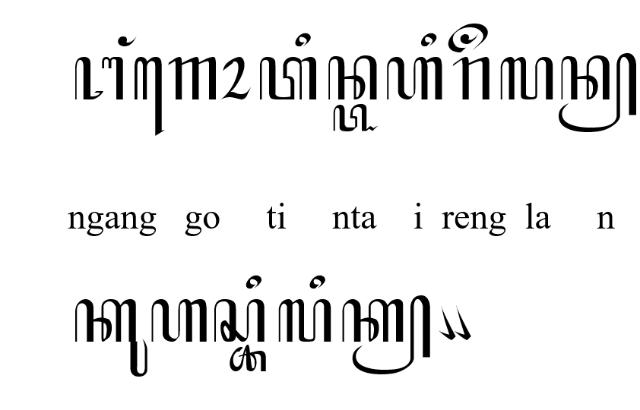-k: (341, 295, 432, 375)
-n: (557, 53, 637, 133)
_c: (229, 344, 267, 374)
_t: (332, 104, 378, 133)
e1: (132, 56, 166, 136)
eng: (448, 23, 488, 53)
g: (168, 56, 218, 100)
h: (150, 298, 208, 345), (385, 57, 443, 101)
i: (294, 32, 312, 48), (308, 275, 326, 291), (245, 275, 262, 289), (421, 33, 437, 47)
kom: (438, 306, 456, 341), (454, 306, 472, 341)
ku: (74, 298, 148, 378)
l: (277, 298, 333, 344), (500, 56, 554, 100)
n: (327, 55, 379, 101)
ng: (118, 34, 136, 46)
nga: (73, 56, 125, 102)
o: (220, 56, 252, 100)
r: (452, 57, 492, 102)
s: (213, 298, 265, 344)
t: (258, 56, 318, 100)
